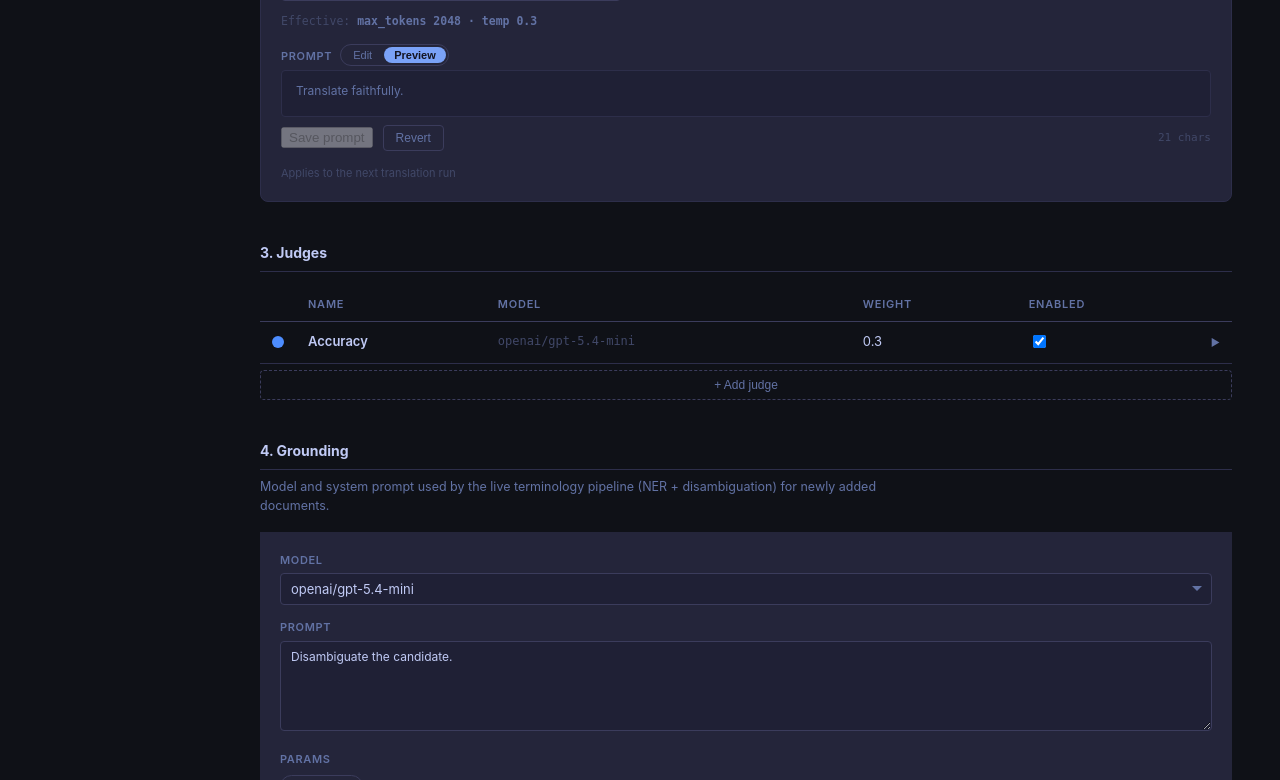
Test: SettingsTab Add Evaluator modal › blocks Save and shows "Name is required" when name is empty
This screenshot has width=1280, height=780.
(page scrolled)
Click the button "+ Add judge" at (746, 385), box 260,370 -> 1232,400
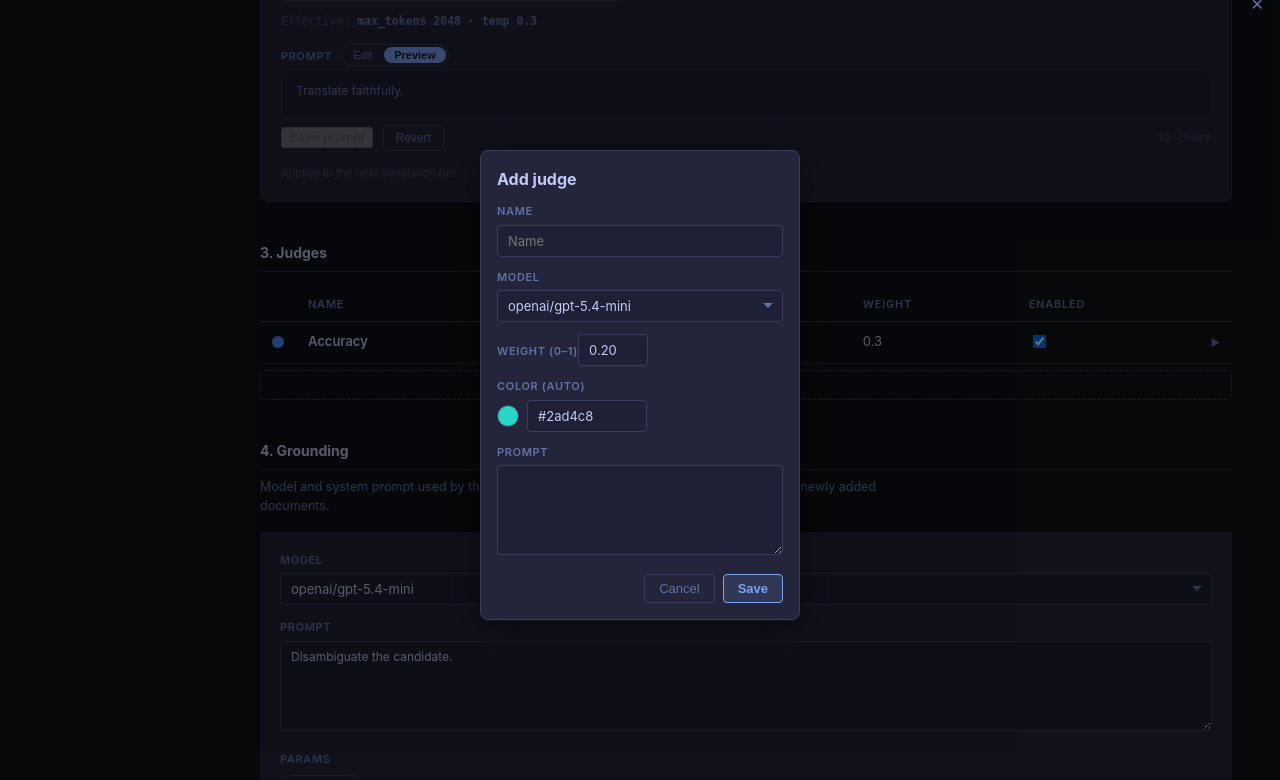
Type "Evaluate this." into the text box with test id "add-evaluator-prompt" at (640, 510), box 497,465 -> 783,555
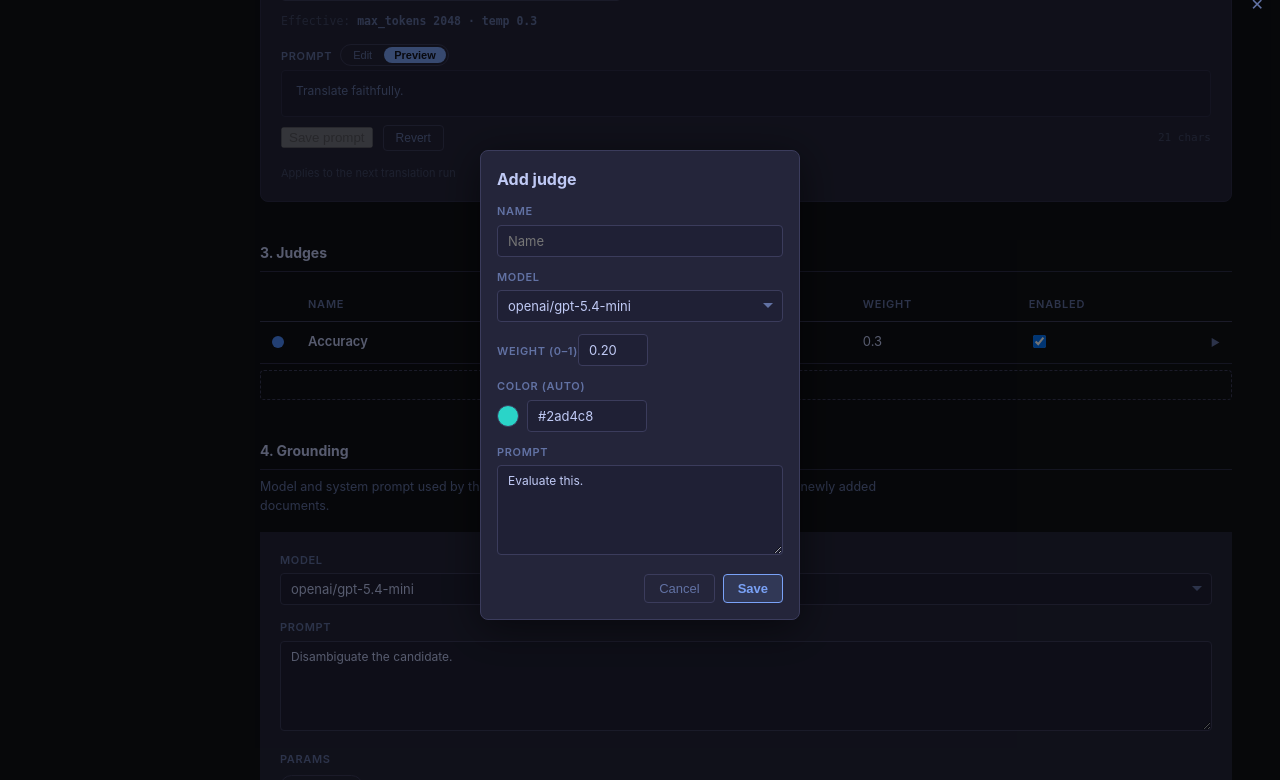
Click the button "Save" at (753, 588), box 723,574 -> 783,603
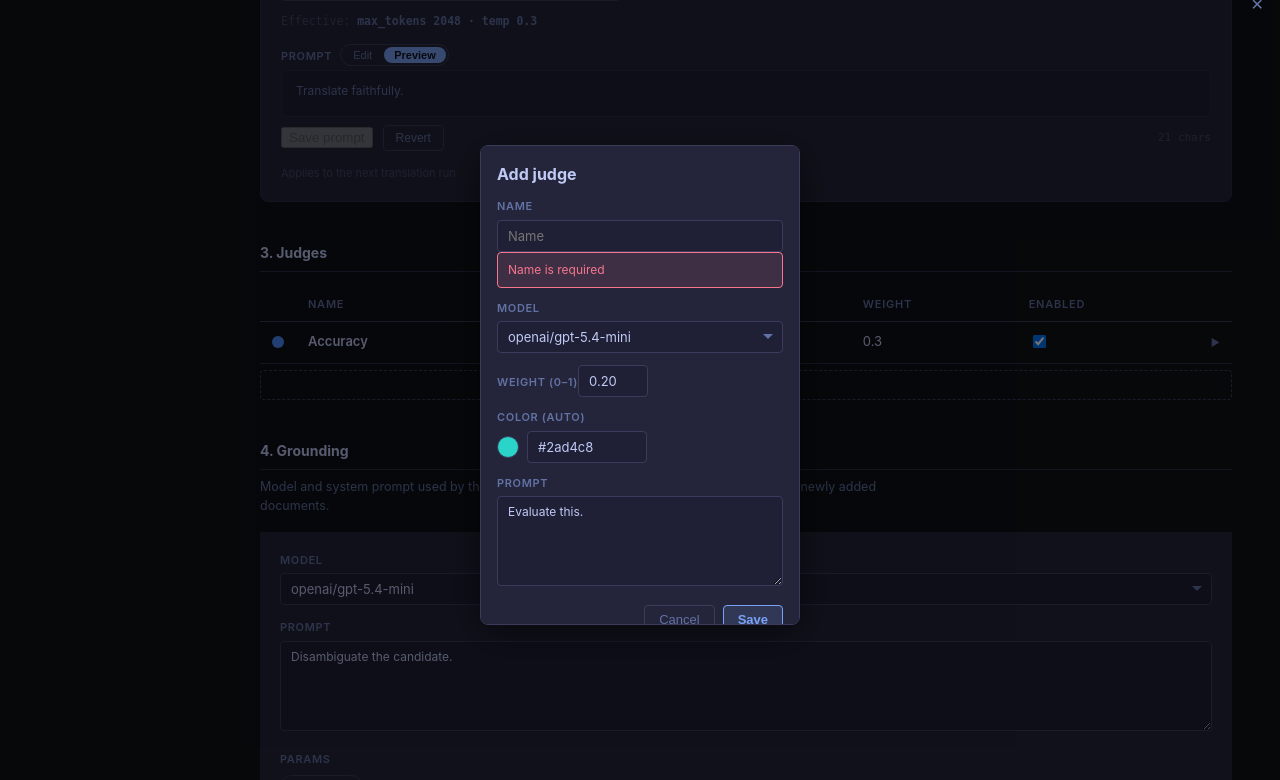
Result: the text with test id "add-evaluator-name-error" reads "Name is required" at 508,262 -> 605,276
